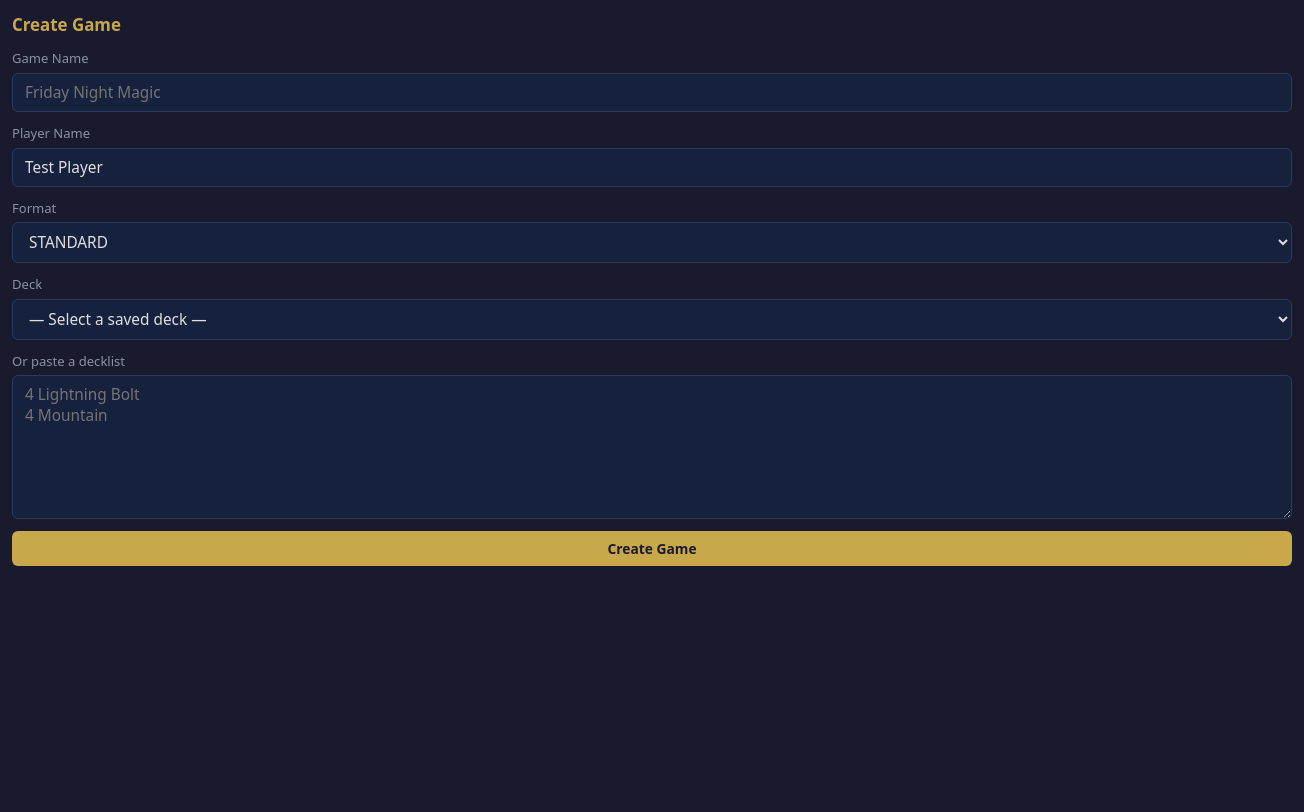
Test: CreateGameForm › shows error when decklist is empty
Type "My Game" into the field labelled "Game Name" at (652,92), box [12,73,1292,112]
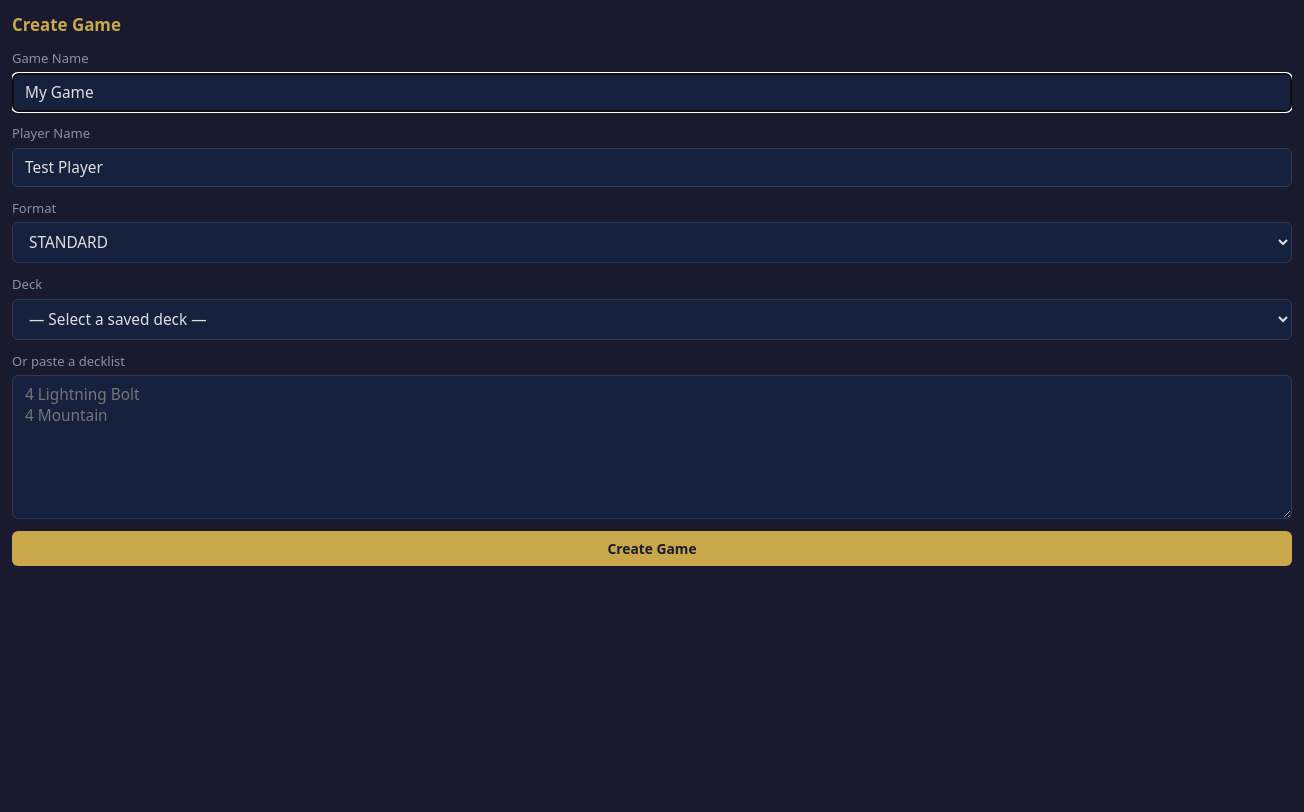
Click the button "Create Game" at (652,549), box [12,531,1292,566]
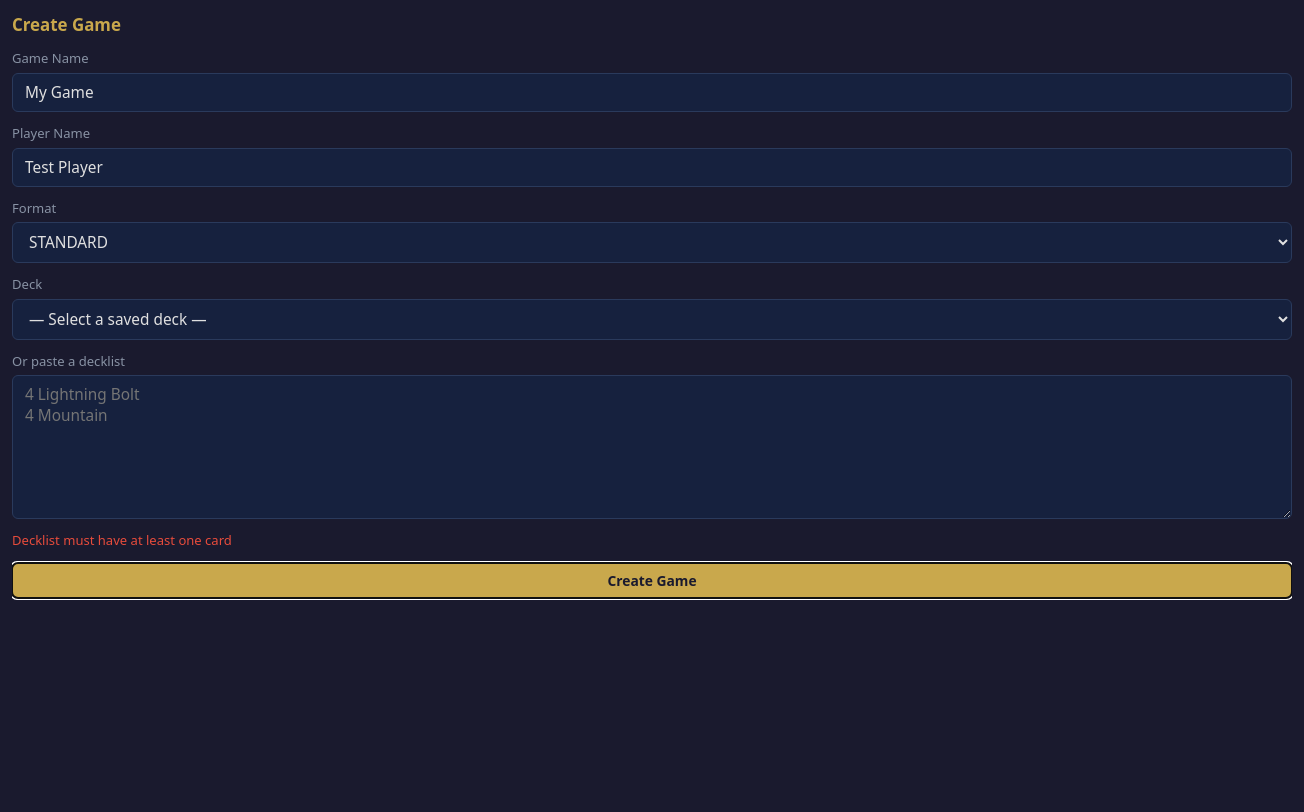
Now the message reads "Decklist must have at least one card", box [12,531,232,549]
